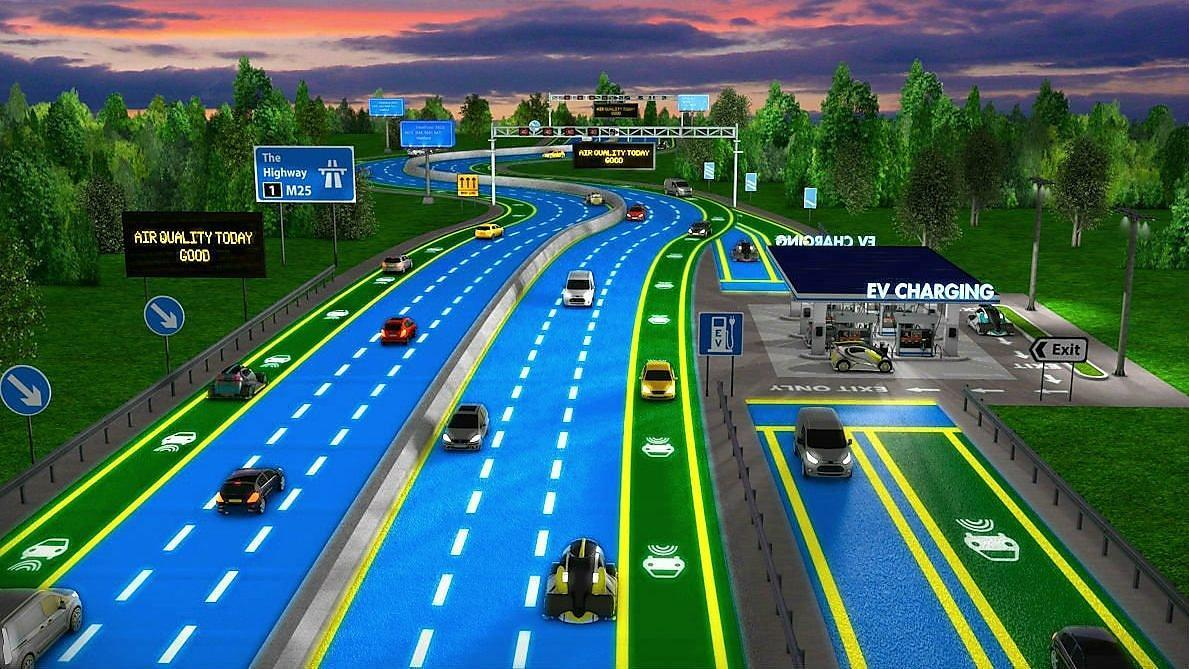car: (535, 530, 619, 636), (2, 577, 86, 669), (792, 404, 858, 487), (210, 462, 288, 527), (204, 359, 273, 413), (437, 395, 492, 462), (639, 357, 680, 405), (562, 267, 603, 313), (378, 315, 420, 349), (378, 252, 417, 283), (657, 173, 696, 201), (619, 200, 654, 230), (684, 217, 717, 244), (473, 222, 509, 244)
indicator: (123, 219, 261, 276), (255, 149, 357, 203), (947, 508, 1030, 570), (637, 537, 688, 588), (638, 429, 677, 463), (24, 535, 69, 558)
language: (865, 275, 995, 306)
